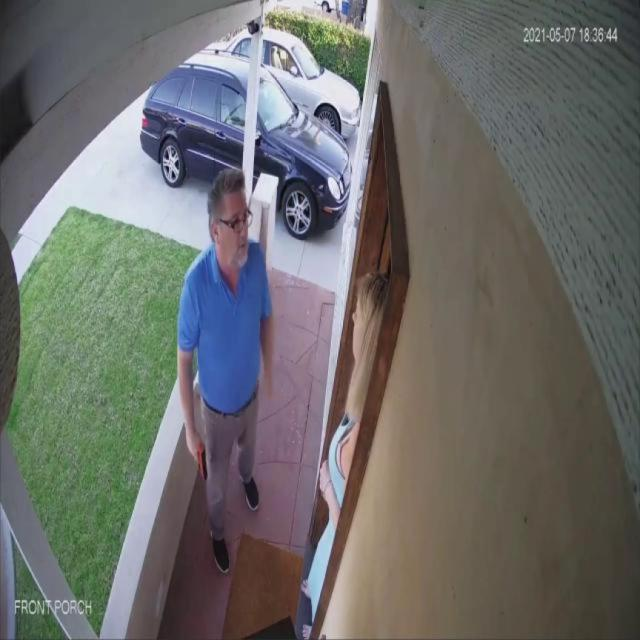pistol: (192, 442, 210, 482)
